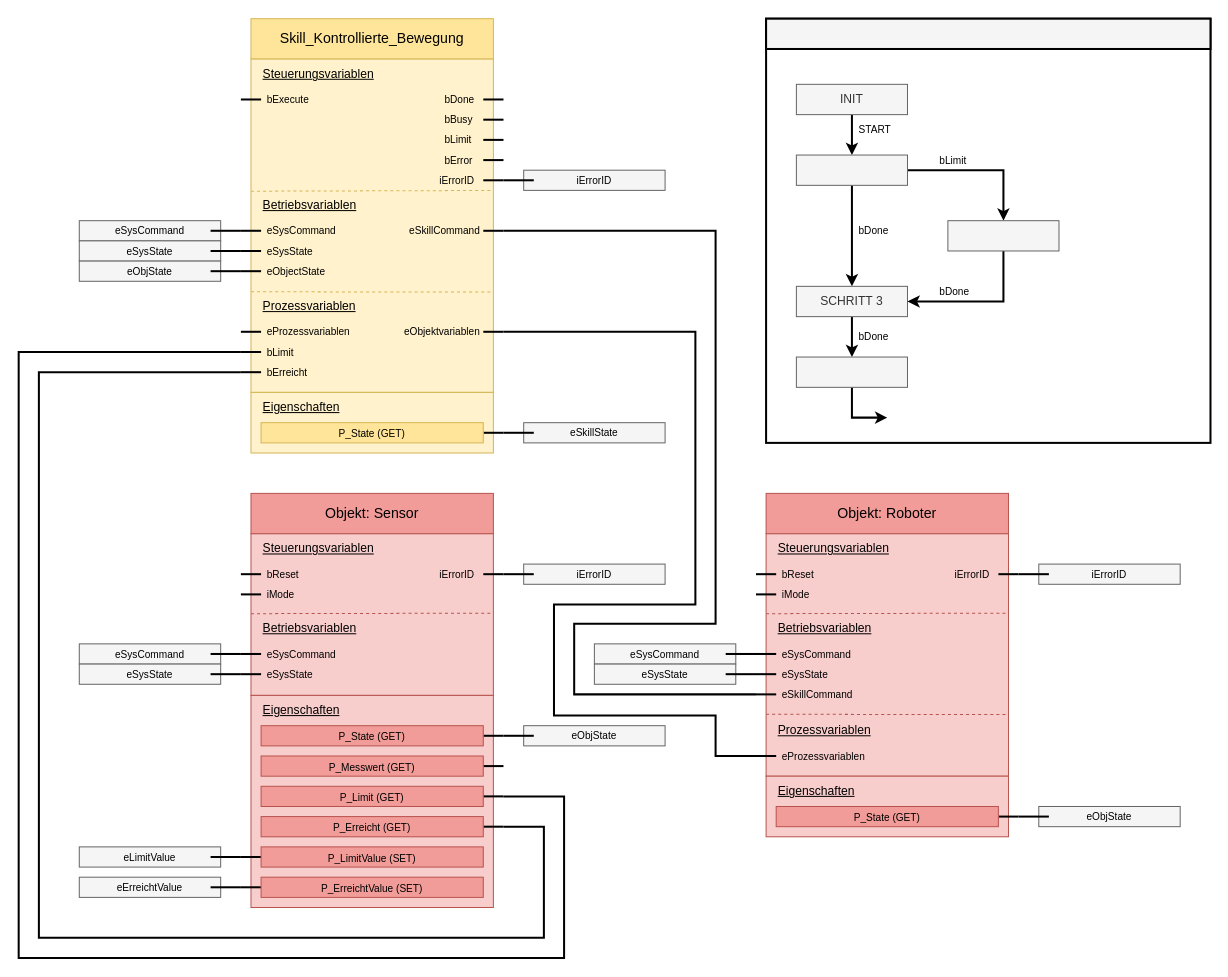
Image size: 1228x977. Some labels were removed from this diagram. The shapes that lost their labels are listed below. From the top down, each one's box as (x1, y1, x2, y2) in pixels, then its label:
(765, 17, 1211, 49): Ablauf in Form eines Flussdiagramms
(795, 154, 907, 185): SCHRITT 1
(947, 220, 1059, 251): SCHRITT 2
(795, 356, 907, 387): FINISHED
